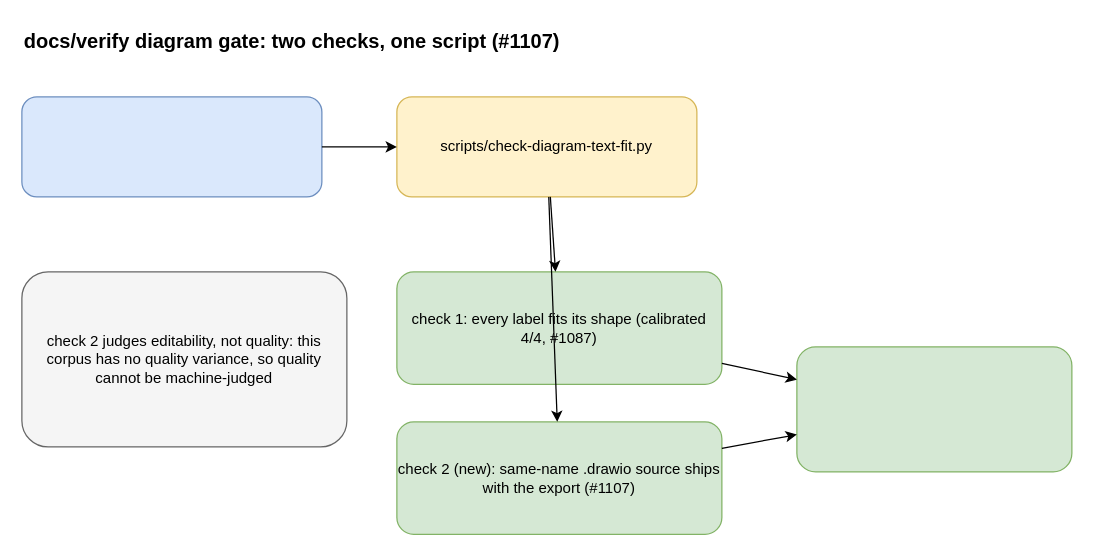
Image size: 1094x556. Some labels were removed from this diagram. Each missing label, with the centre of its shape:
every docs/verify/**/*.drawio.svg in the tree: point (171, 146)
exit 0 only when both checks pass; CI job diagram-text-fit stays advisory: point (934, 409)
